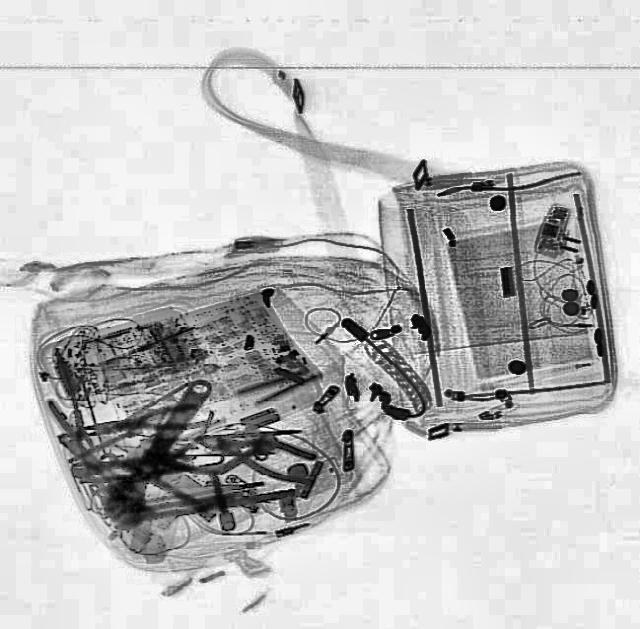Pliers: (188, 420, 324, 488), (80, 402, 212, 446)
Wrench: (91, 367, 221, 535)
